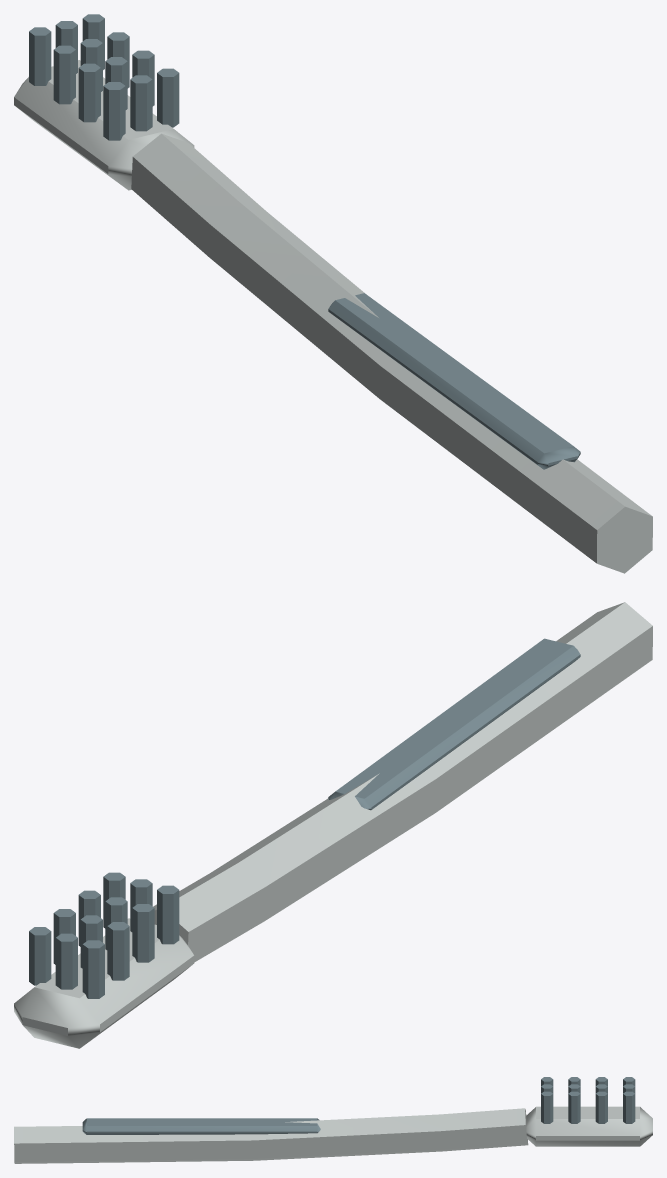
The model's file is toothbrush.glb.
3 views of the same model, one above another, from view 1: azimuth 30°, elevation 25°; view 2: azimuth 150°, elevation 25°; view 3: azimuth 270°, elevation 25° (orthographic). The views are drawn at different scales.
Parts seen in each view (by area): view 1: ergonomic_handle, rubber_grip, brush_head, bristle_cluster.001, bristle_cluster.002, bristle_cluster.003, bristle_cluster, bristle_cluster.011, bristle_cluster.007; view 2: ergonomic_handle, rubber_grip, brush_head, bristle_cluster.003, bristle_cluster.002, bristle_cluster, bristle_cluster.001, bristle_cluster.008, bristle_cluster.004, bristle_cluster.011, bristle_cluster.010, bristle_cluster.005 (+3 smaller); view 3: ergonomic_handle, brush_head, rubber_grip, bristle_cluster.009, bristle_cluster.010, bristle_cluster.011, bristle_cluster.008.
Boxes of the visible parts, left/top/right/bottom form: ergonomic_handle: left=131, top=133, right=652, bottom=573; rubber_grip: left=328, top=293, right=580, bottom=469; brush_head: left=14, top=60, right=194, bottom=190; bristle_cluster.001: left=53, top=45, right=75, bottom=104; bristle_cluster.002: left=78, top=63, right=100, bottom=122; bristle_cluster.003: left=103, top=82, right=125, bottom=140; bristle_cluster: left=29, top=27, right=51, bottom=85; bristle_cluster.011: left=157, top=68, right=179, bottom=127; bristle_cluster.007: left=130, top=75, right=152, bottom=131; ergonomic_handle: left=153, top=602, right=652, bottom=962; rubber_grip: left=328, top=638, right=580, bottom=810; brush_head: left=14, top=918, right=194, bottom=1048; bristle_cluster.003: left=157, top=885, right=179, bottom=944; bristle_cluster.002: left=132, top=904, right=154, bottom=962; bristle_cluster: left=82, top=940, right=104, bottom=998; bristle_cluster.001: left=107, top=922, right=129, bottom=980; bristle_cluster.008: left=29, top=927, right=51, bottom=985; bristle_cluster.004: left=55, top=933, right=77, bottom=989; bristle_cluster.011: left=103, top=872, right=125, bottom=928; bristle_cluster.010: left=78, top=890, right=100, bottom=946; bristle_cluster.005: left=80, top=915, right=102, bottom=968; ergonomic_handle: left=14, top=1108, right=528, bottom=1163; brush_head: left=526, top=1106, right=652, bottom=1146; rubber_grip: left=82, top=1118, right=320, bottom=1134; bristle_cluster.009: left=595, top=1091, right=607, bottom=1123; bristle_cluster.010: left=568, top=1091, right=580, bottom=1123; bristle_cluster.011: left=541, top=1091, right=553, bottom=1123; bristle_cluster.008: left=623, top=1091, right=635, bottom=1123.
Size of the model in its own units: 0.016 by 0.025 by 0.1871.
